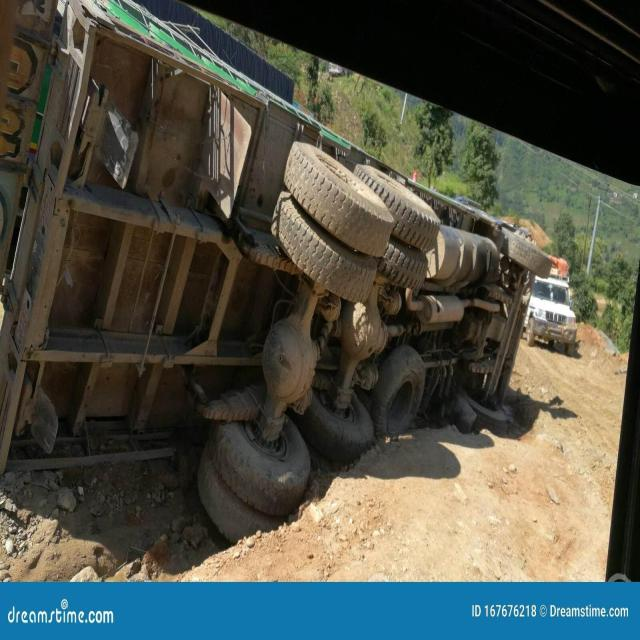accident: (0, 0, 550, 535)
car: (525, 276, 578, 357)
